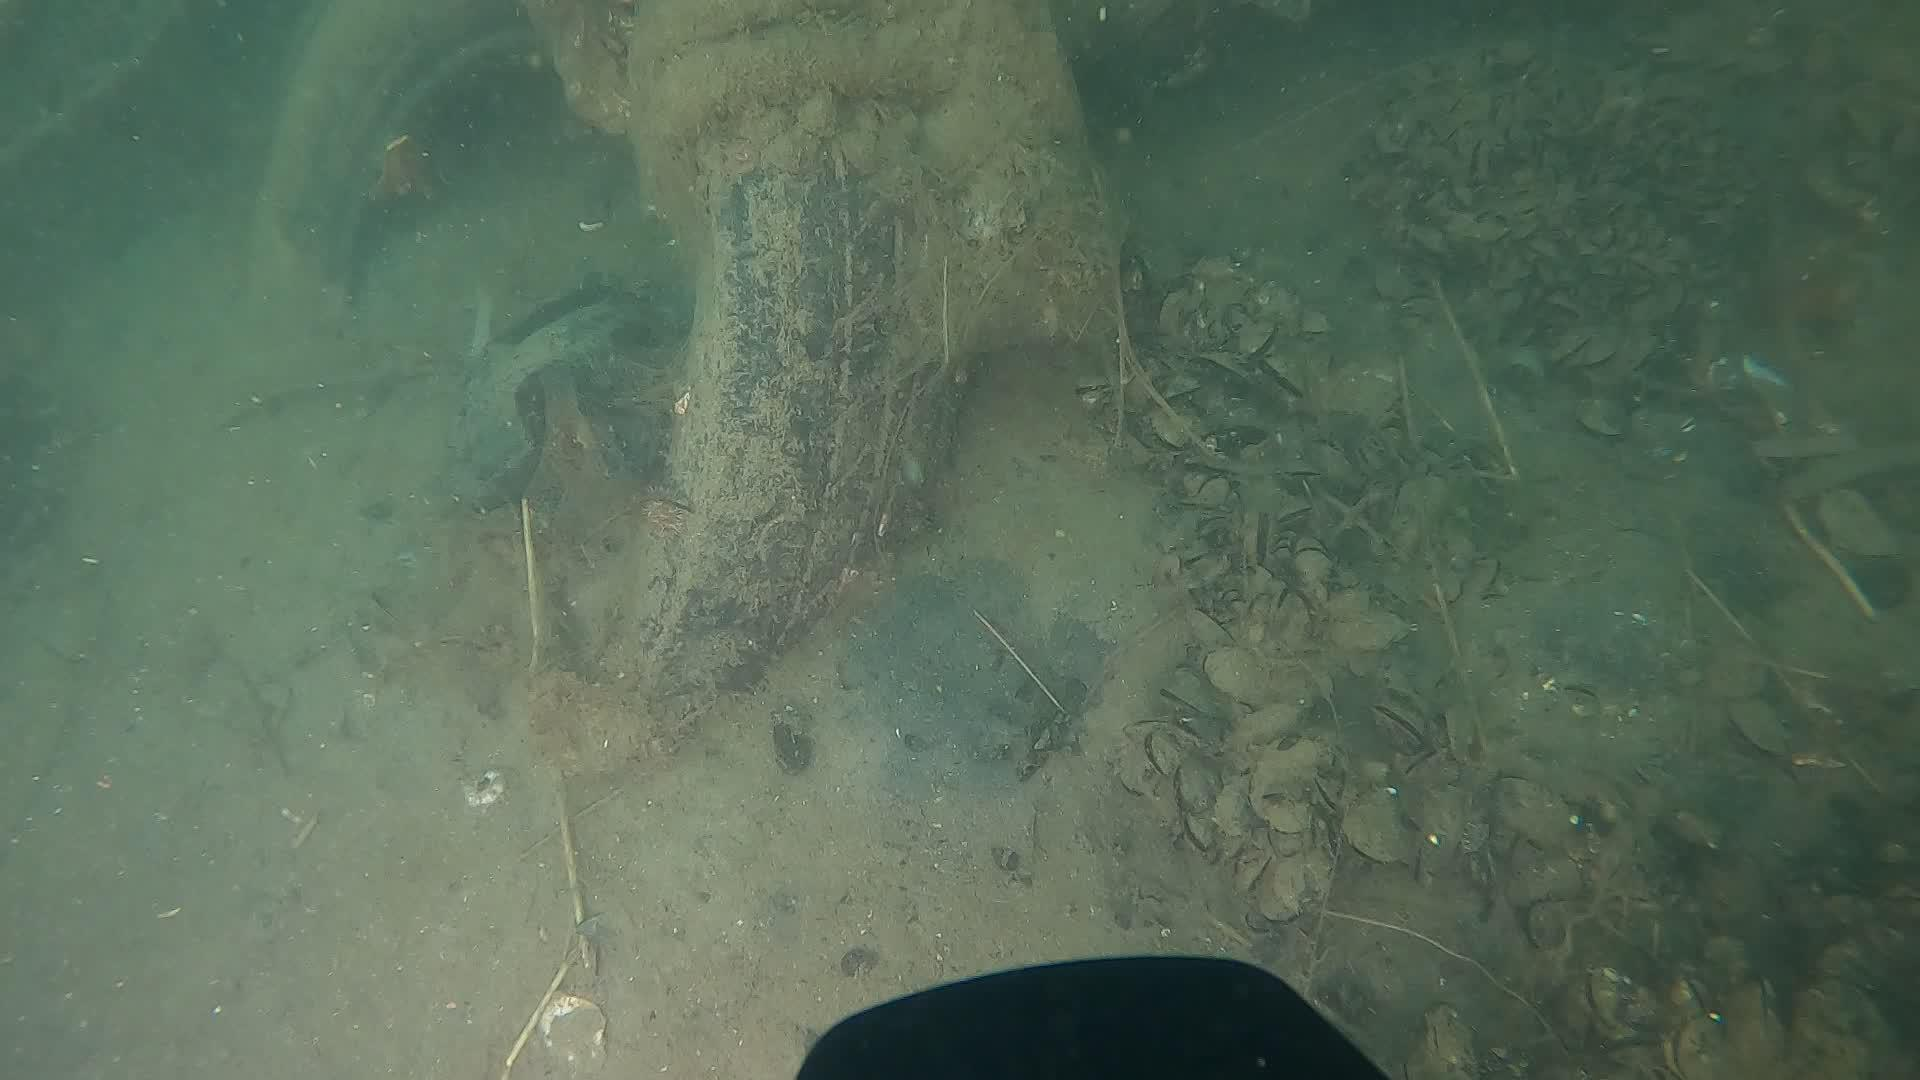tire: (252, 0, 972, 695)
